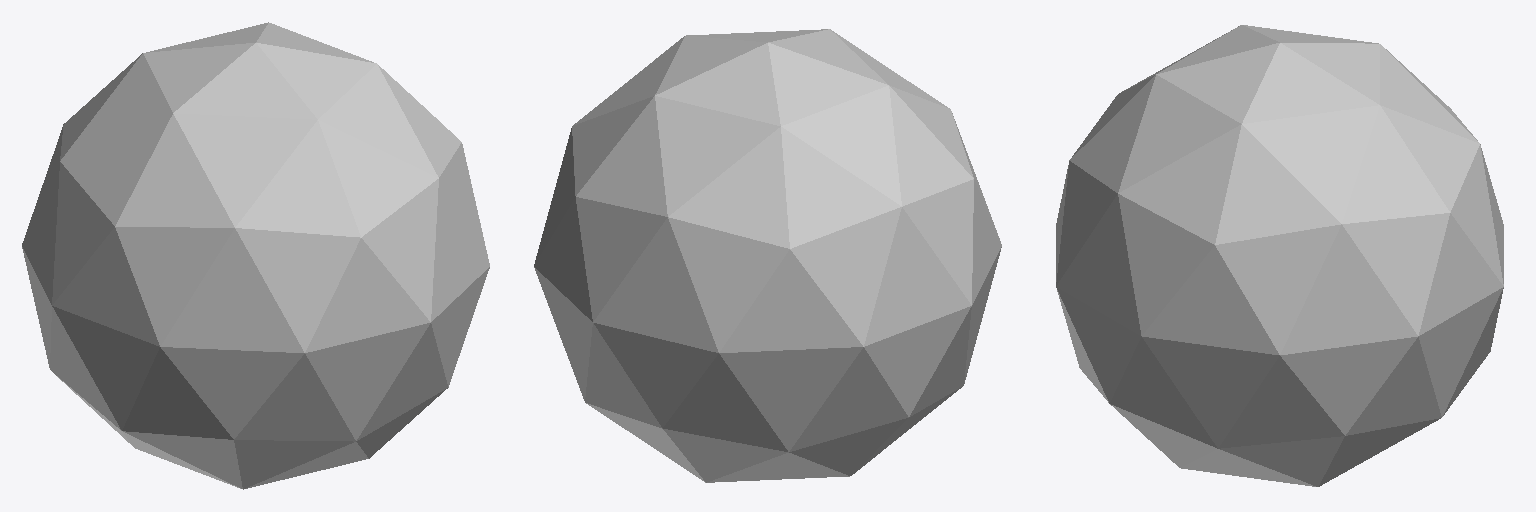
File: ico_sphere.obj
3 views of the same model, side by side, from view 1: azimuth 30°, elevation 25°; view 2: azimuth 150°, elevation 25°; view 3: azimuth 270°, elevation 25° (orthographic).
Visible parts, largest first — view 1: Icosphere; view 2: Icosphere; view 3: Icosphere.
Boxes of the visible parts, x1,y1,x2,y2 form: Icosphere: [22, 22, 489, 489]; Icosphere: [534, 29, 1001, 482]; Icosphere: [1056, 25, 1503, 486].
Size of the model in its own units: 2 by 2 by 1.9.